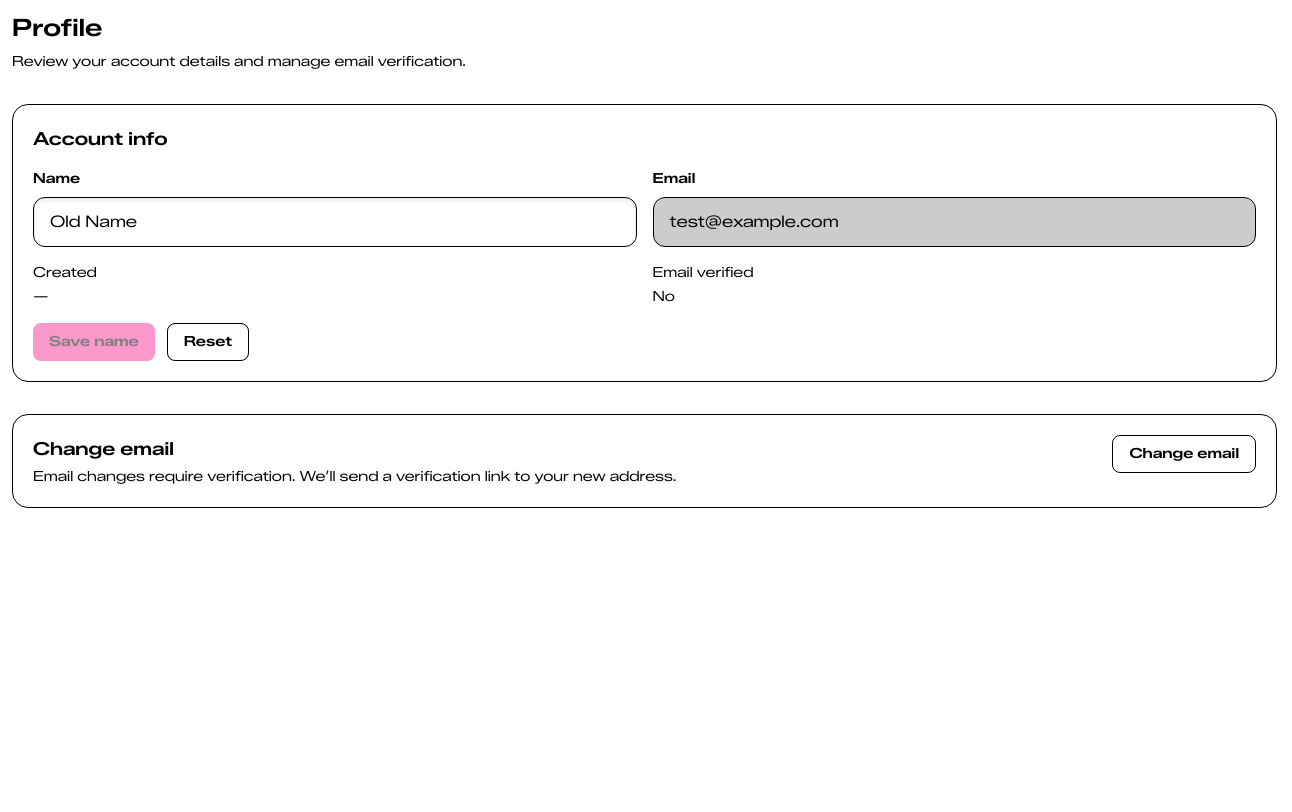
Test: AccountProfilePage › updates name on happy path
The image size is (1292, 812).
Replace the text in the field labelled "Name" with "New Name". click: (335, 222)
box: [33,197,636,247]
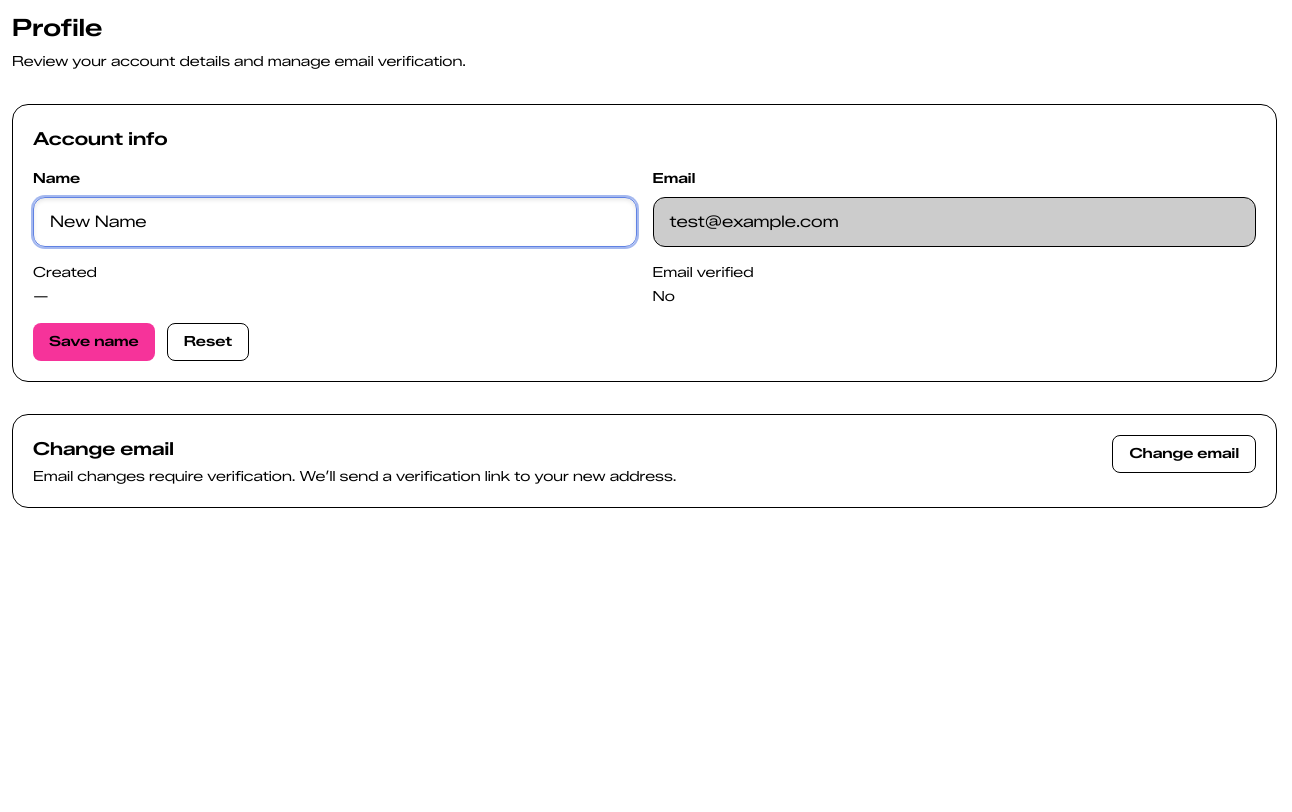
Click the button "Save name". click: (94, 342)
box: [33,323,155,361]
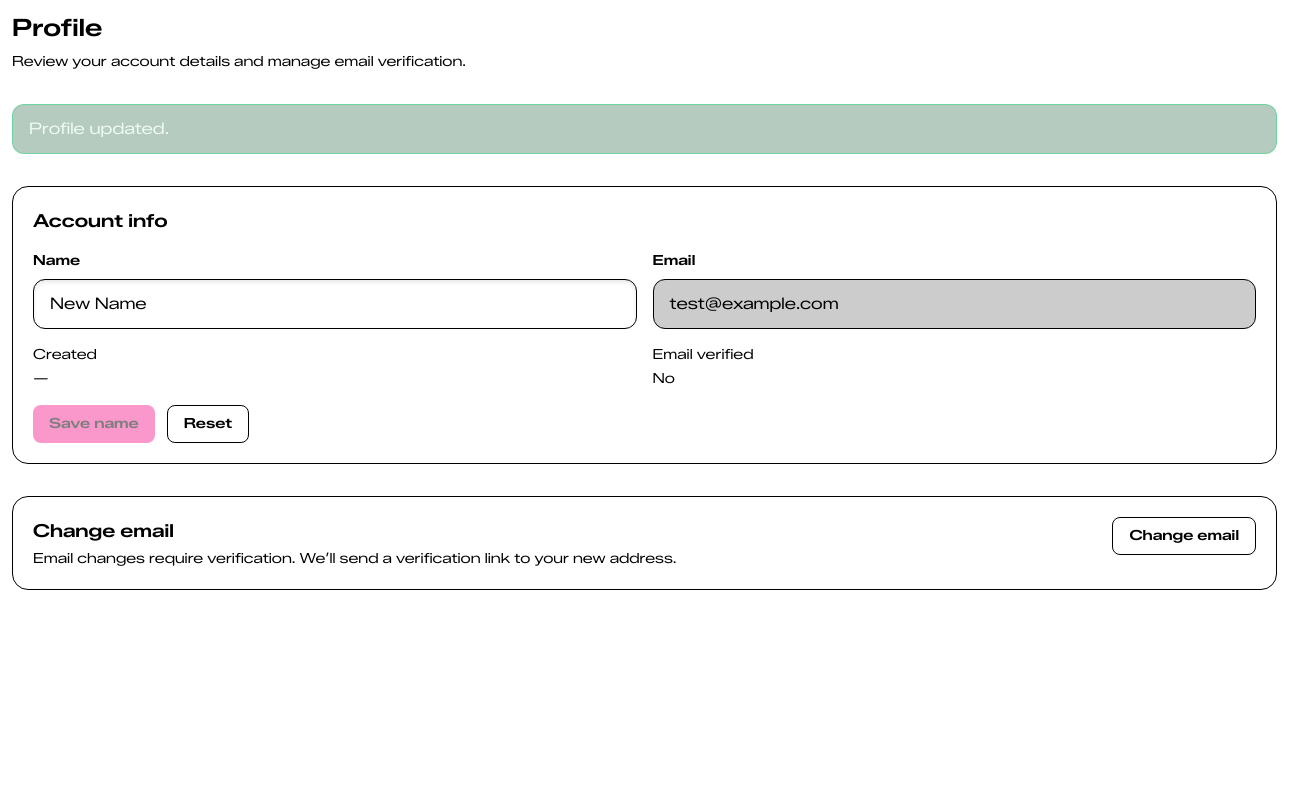
Expected: the text "Profile updated." is shown, [12,104,1277,154]
